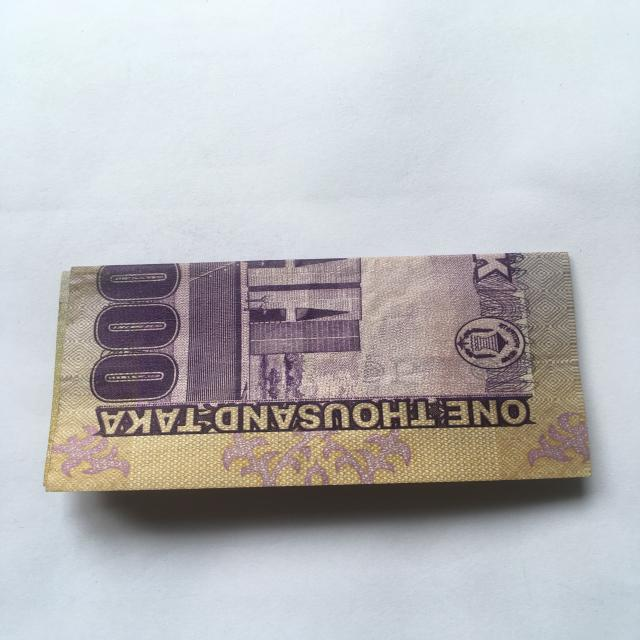Taka: (46, 249, 602, 496)
